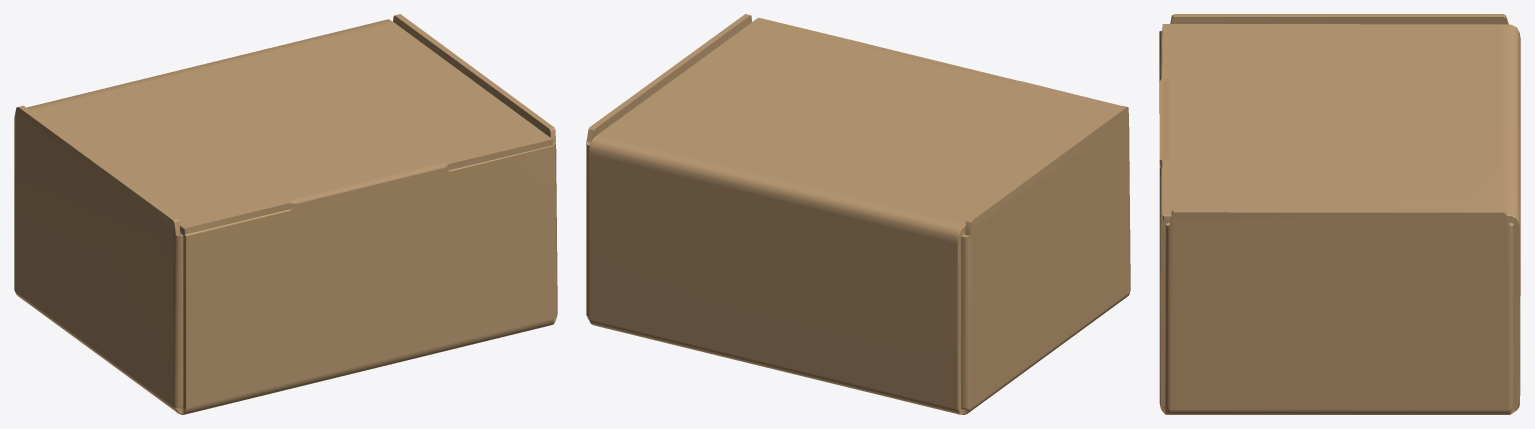
Rendered from box_cardboard_d01.glb.
3 views of the same model, side by side, from view 1: azimuth 30°, elevation 25°; view 2: azimuth 150°, elevation 25°; view 3: azimuth 270°, elevation 25° (orthographic). The views are drawn at different scales.
Bounding box in the file's own units: 0.3448 × 0.1661 × 0.2644.
